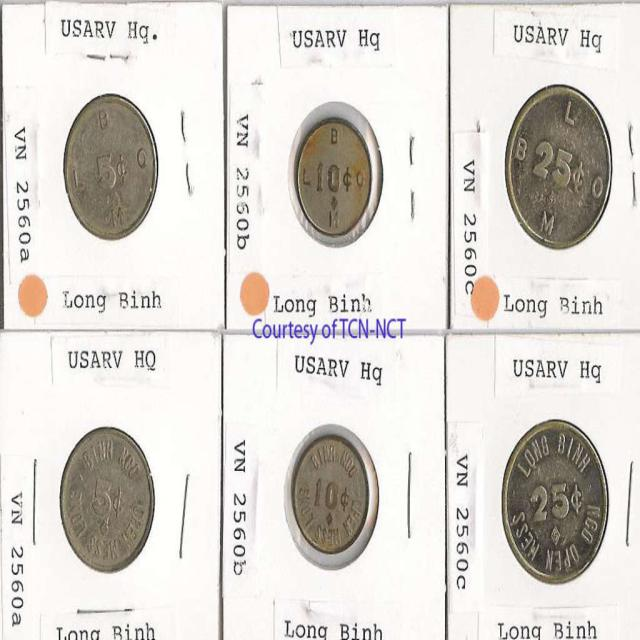Coin: (504, 83, 614, 248), (502, 413, 608, 583), (62, 83, 156, 242), (56, 426, 155, 574), (291, 426, 368, 553), (294, 117, 371, 238)
